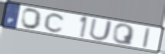1: (79, 16, 90, 40)
C: (43, 12, 67, 33)
I: (142, 27, 152, 50)
O: (21, 8, 43, 30)
Q: (112, 23, 136, 46)
U: (88, 18, 115, 42)
